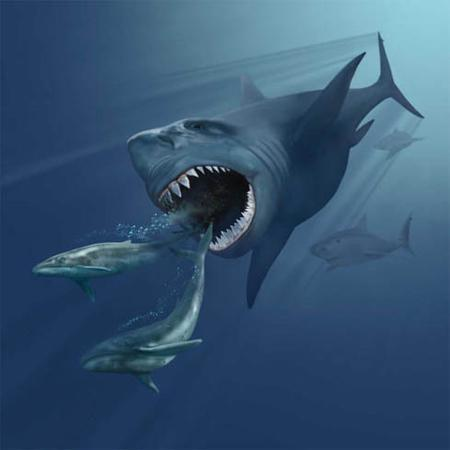fish: (124, 33, 427, 255), (80, 227, 220, 384), (38, 225, 195, 293)
